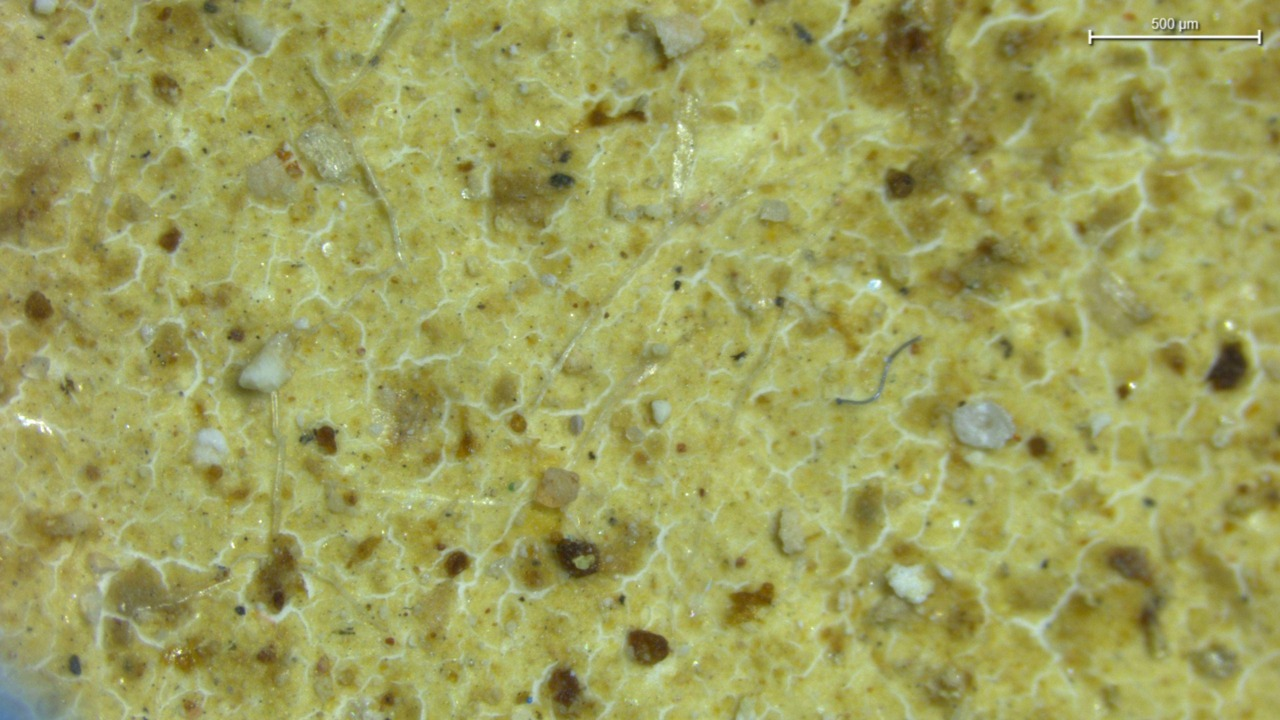microplastic_fragment: (237, 333, 288, 393), (887, 564, 933, 604)
